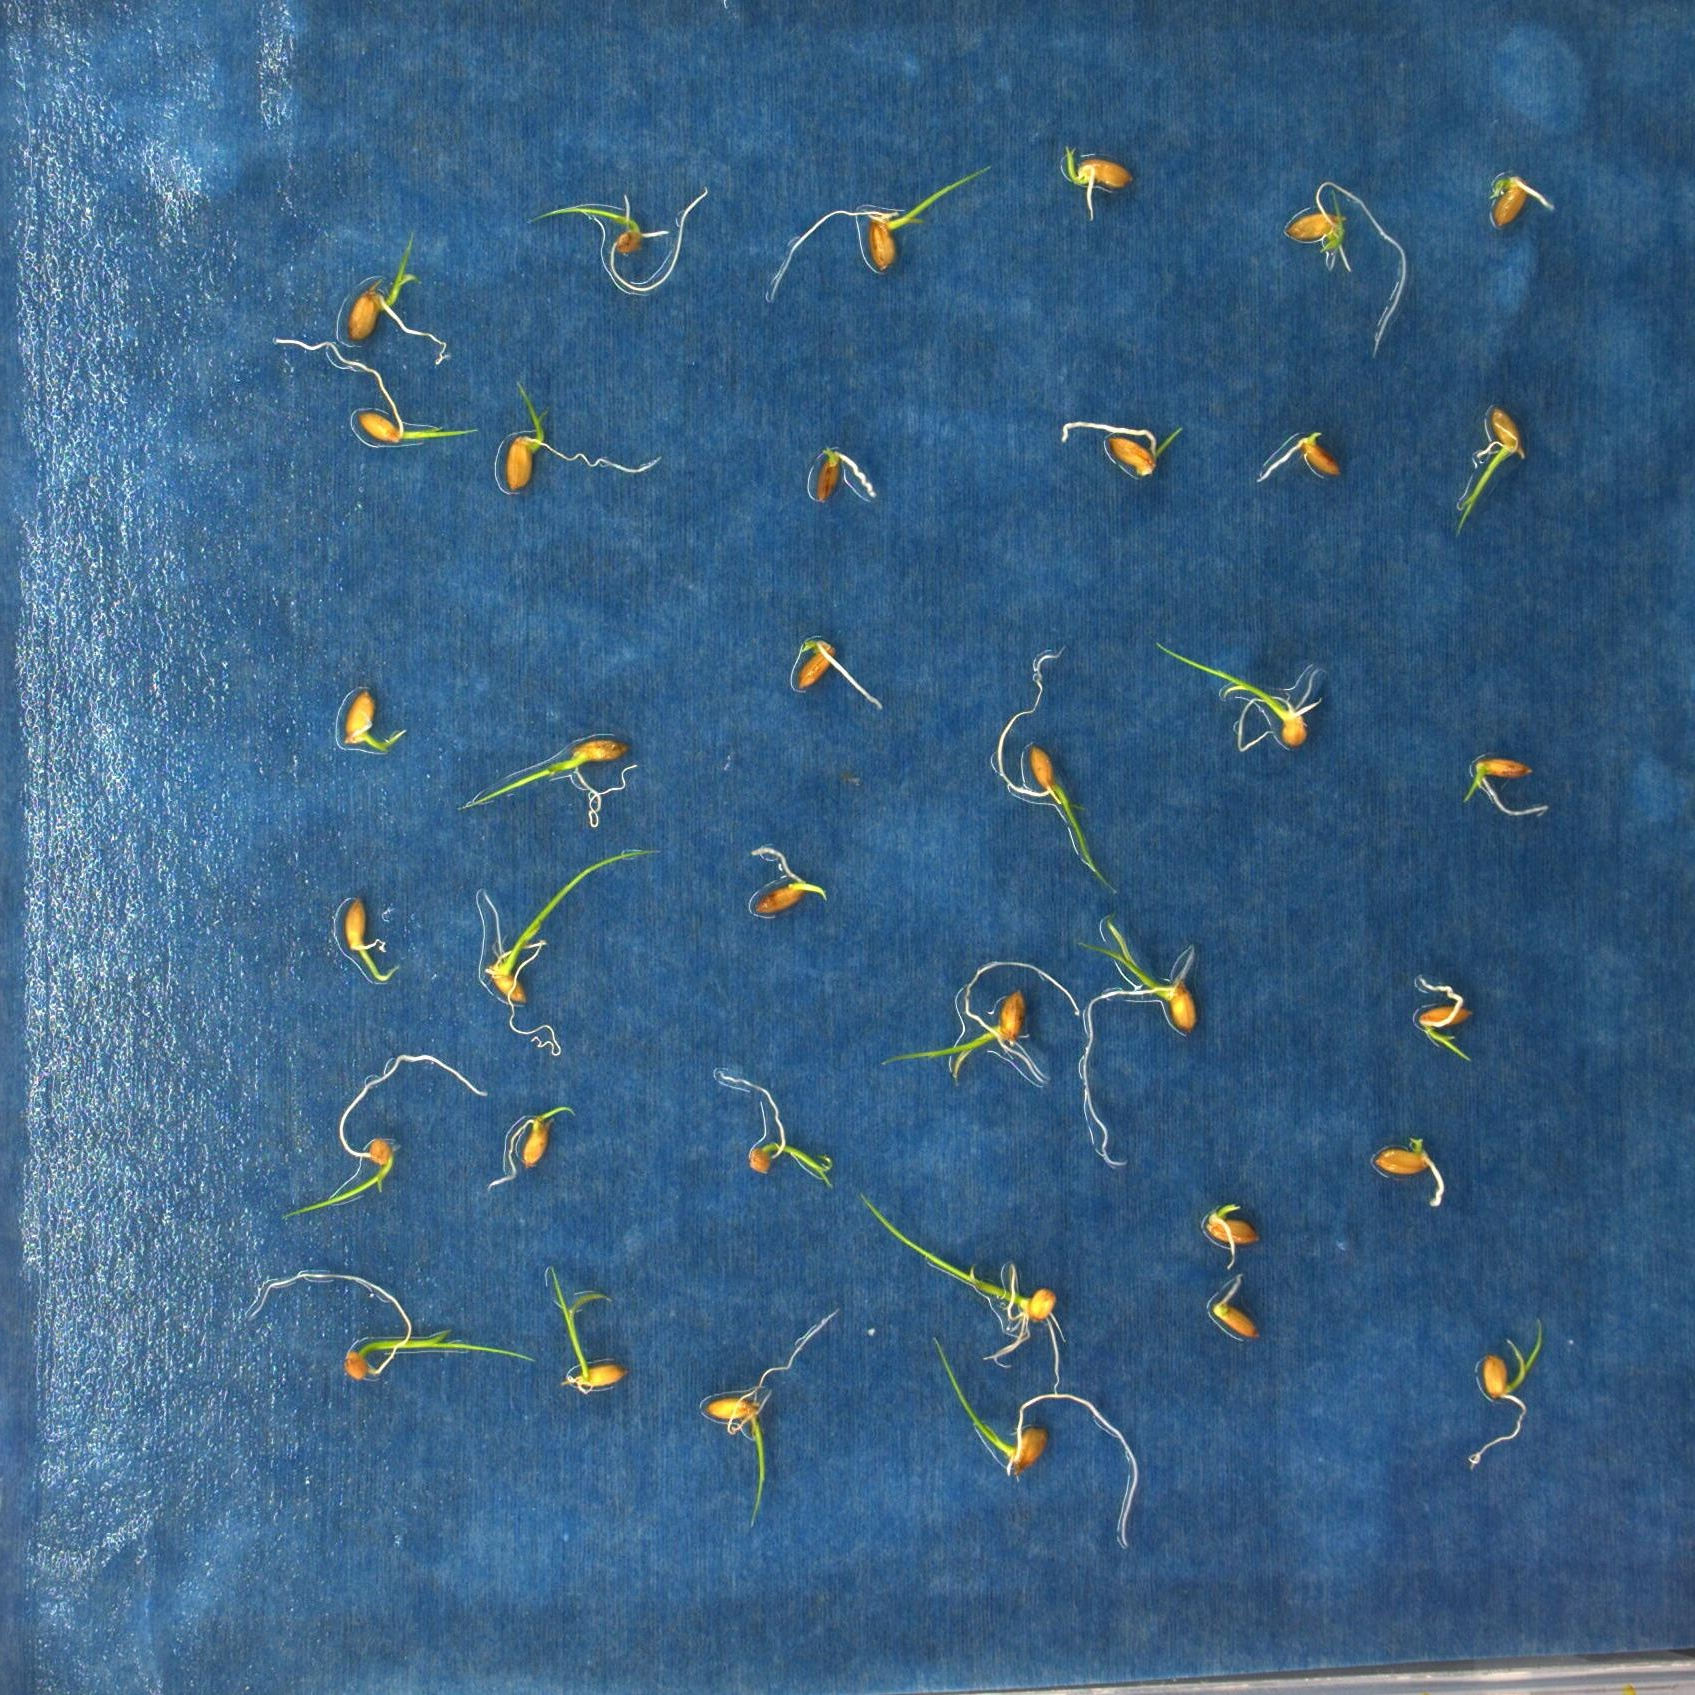not sprout: (796, 638, 885, 712), (1374, 1138, 1444, 1208), (1256, 430, 1343, 481), (813, 447, 879, 504), (1492, 172, 1554, 231), (1212, 1274, 1257, 1340)
sprout: (933, 1336, 1141, 1551), (858, 1191, 1062, 1392), (480, 846, 661, 1057), (281, 1052, 486, 1222), (248, 1271, 537, 1381), (995, 646, 1121, 897), (768, 165, 990, 303), (703, 1309, 840, 1530), (1080, 913, 1195, 1167), (882, 959, 1080, 1087), (275, 337, 480, 445), (1287, 179, 1408, 362), (525, 182, 708, 293), (1153, 641, 1324, 751), (506, 379, 663, 490), (458, 736, 638, 827), (717, 1068, 834, 1187), (348, 230, 449, 365), (1467, 1318, 1544, 1468), (545, 1263, 632, 1388), (1454, 407, 1526, 537), (487, 1104, 574, 1192), (1060, 421, 1183, 475), (1063, 144, 1135, 220), (750, 844, 827, 914), (1465, 757, 1551, 816), (1419, 973, 1475, 1063), (343, 897, 400, 983), (1205, 1201, 1259, 1271), (345, 691, 407, 750)
